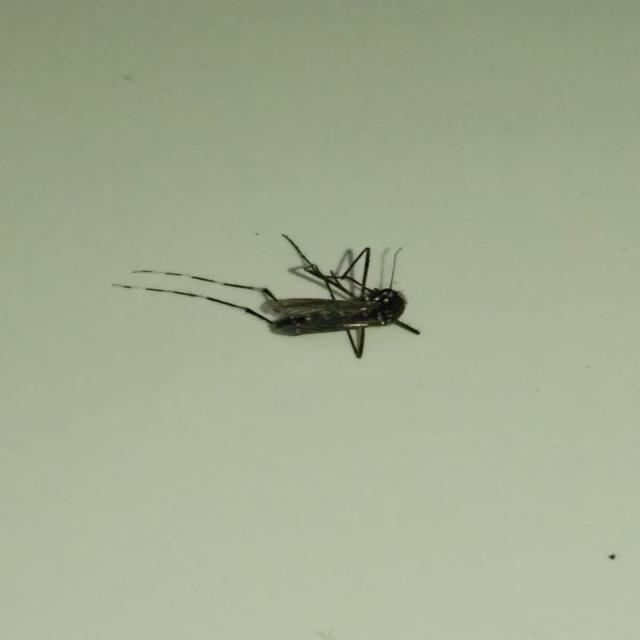albopictus: (114, 218, 432, 369)
